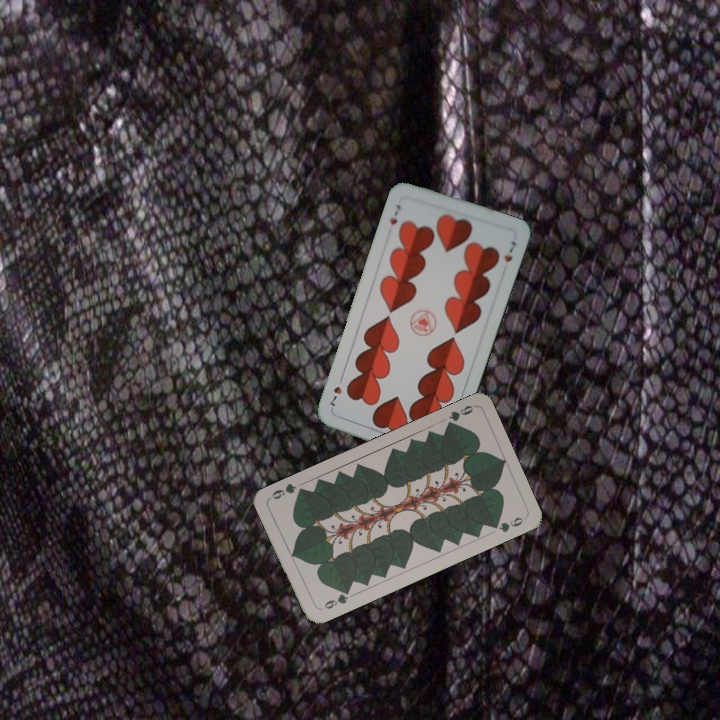G9: (442, 401, 477, 431), (316, 585, 352, 613)
H7: (385, 200, 404, 227)
